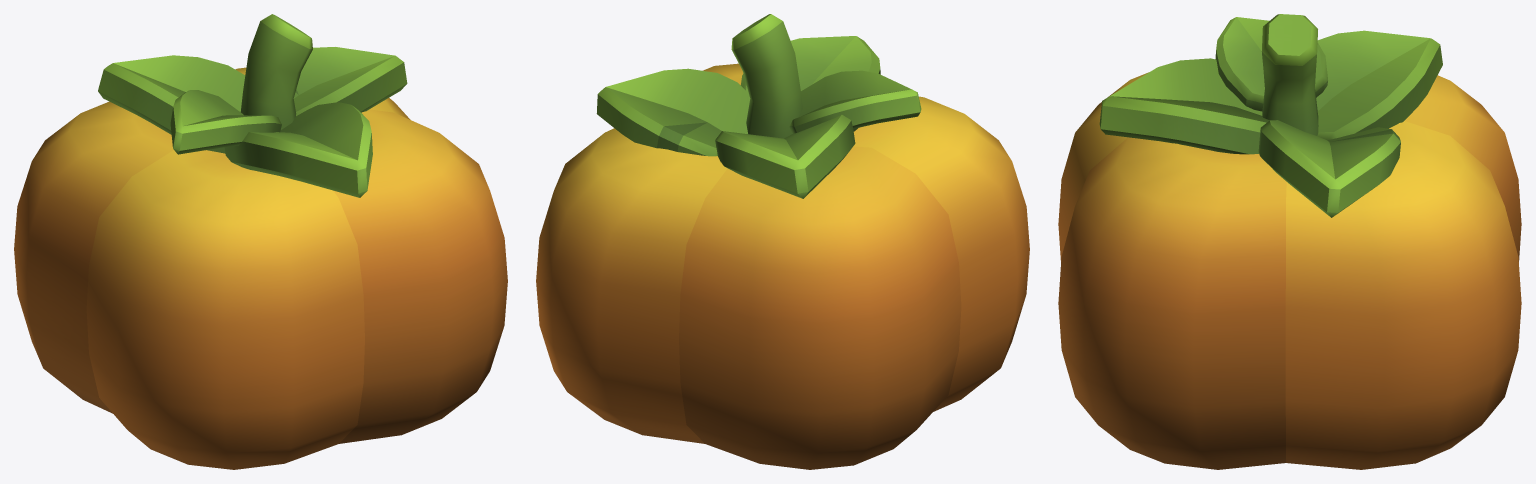
The model's file is pumpkin_small.fbx.
3 views of the same model, side by side, from view 1: azimuth 30°, elevation 25°; view 2: azimuth 150°, elevation 25°; view 3: azimuth 270°, elevation 25° (orthographic). The views are drawn at different scales.
Parts seen in each view (by area): view 1: pumpkin_small; view 2: pumpkin_small; view 3: pumpkin_small.
Boxes of the visible parts, left/top/right/bottom form: pumpkin_small: left=14, top=14, right=507, bottom=469; pumpkin_small: left=536, top=14, right=1029, bottom=469; pumpkin_small: left=1058, top=14, right=1521, bottom=469.
Bounding box in the file's own units: 60.41 × 58.51 × 60.41.
